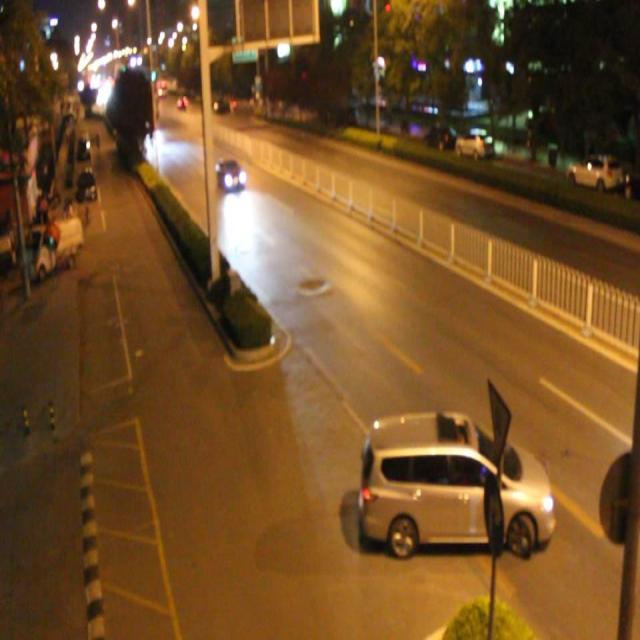car: (364, 409, 554, 550), (215, 156, 244, 190)
